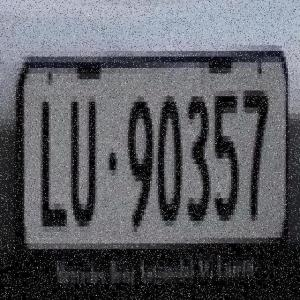Plate: (15, 31, 293, 294)
